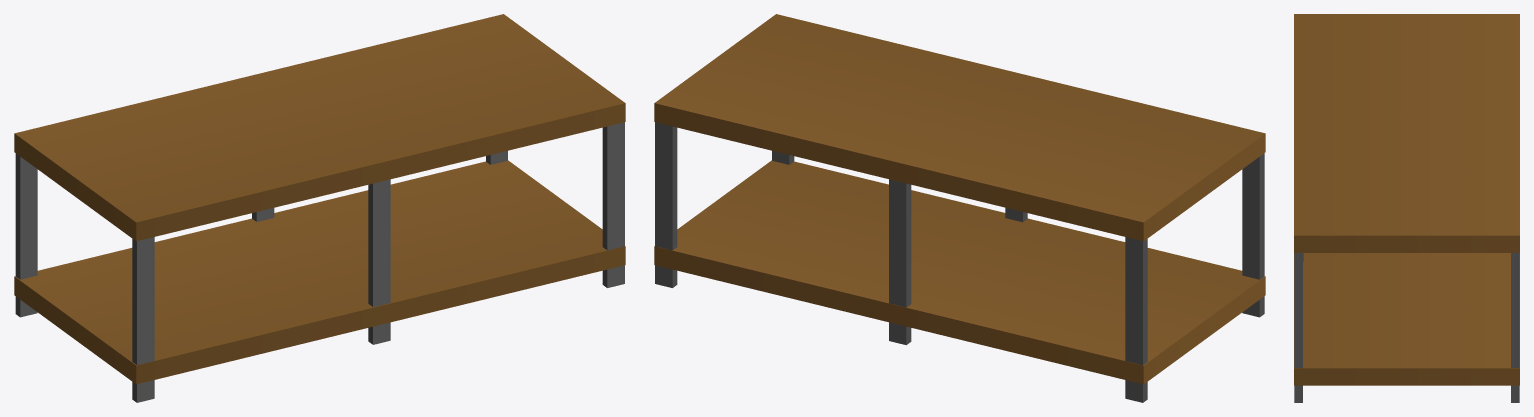
File: Mesa.fbx
3 renders of one model, left to right at view 1: azimuth 30°, elevation 25°; view 2: azimuth 150°, elevation 25°; view 3: azimuth 270°, elevation 25°, orthographic. The views are drawn at different scales.
Visible parts, largest first — view 1: Mesa; view 2: Mesa; view 3: Mesa.
Boxes of the visible parts, bbox=[...] form: Mesa: bbox=[14, 14, 625, 402]; Mesa: bbox=[654, 14, 1265, 402]; Mesa: bbox=[1294, 14, 1519, 402].
Bounding box in the file's own units: 200 × 70.61 × 86.21.
Materials: 1 (1 with a texture image).
